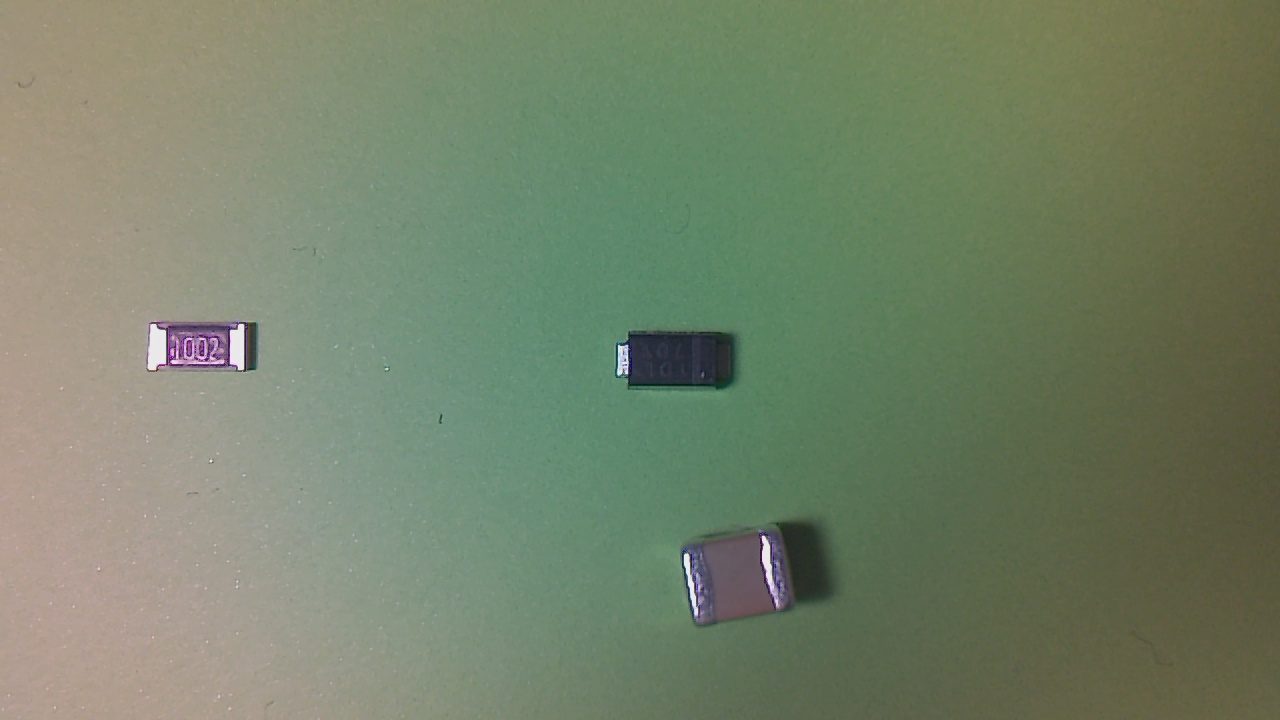Condensator: (684, 535, 808, 635)
Diode: (620, 333, 741, 397)
Resistor: (148, 325, 263, 380)
